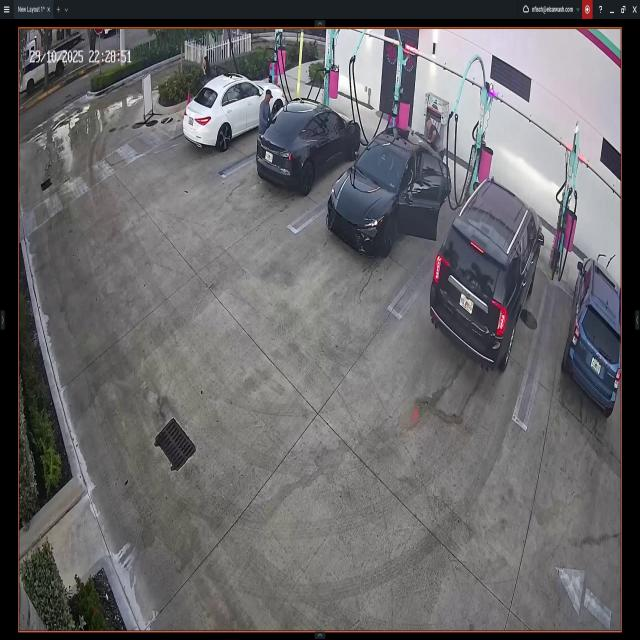Car: (429, 180, 544, 370), (326, 126, 452, 262), (256, 102, 361, 190), (565, 255, 620, 414), (184, 79, 286, 144)
